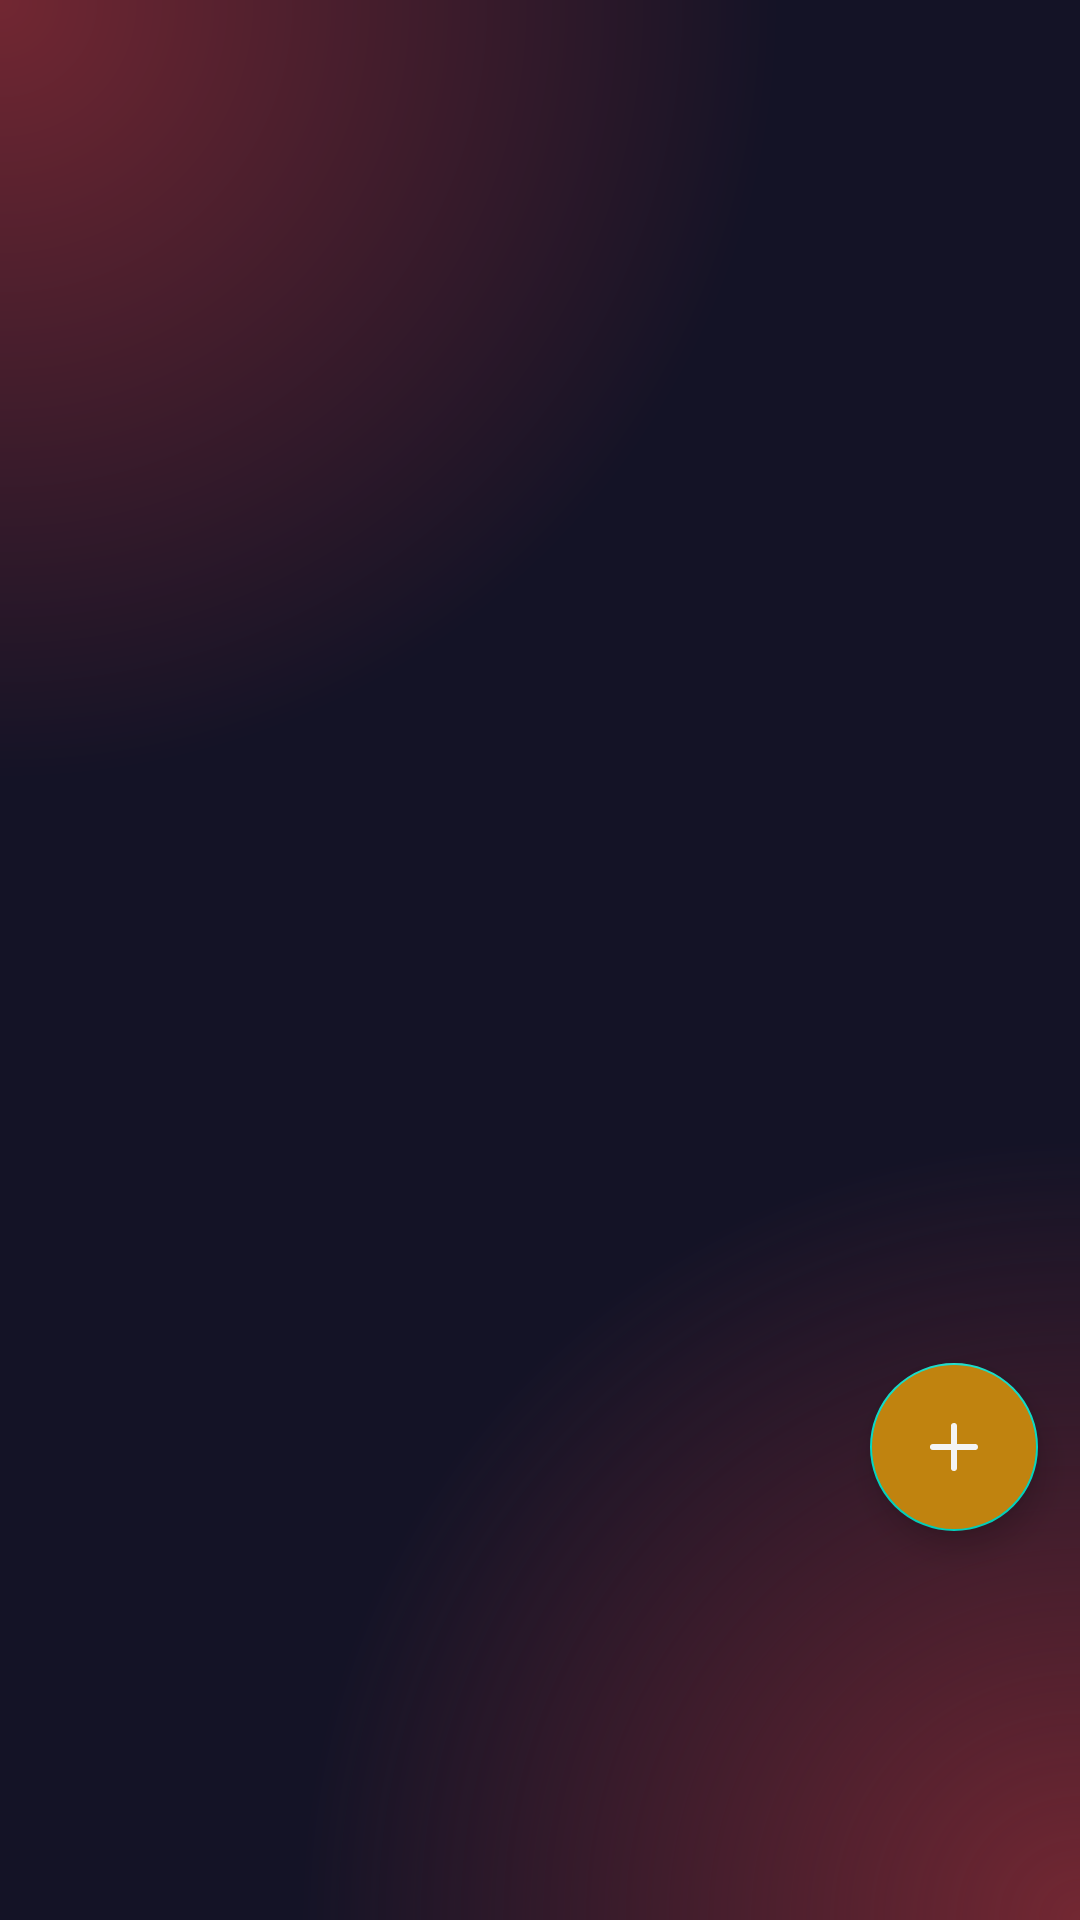

Point at icon controls on the screen. Image size 1080×1920, points as point (x, y).
plus: point (954, 1447)
